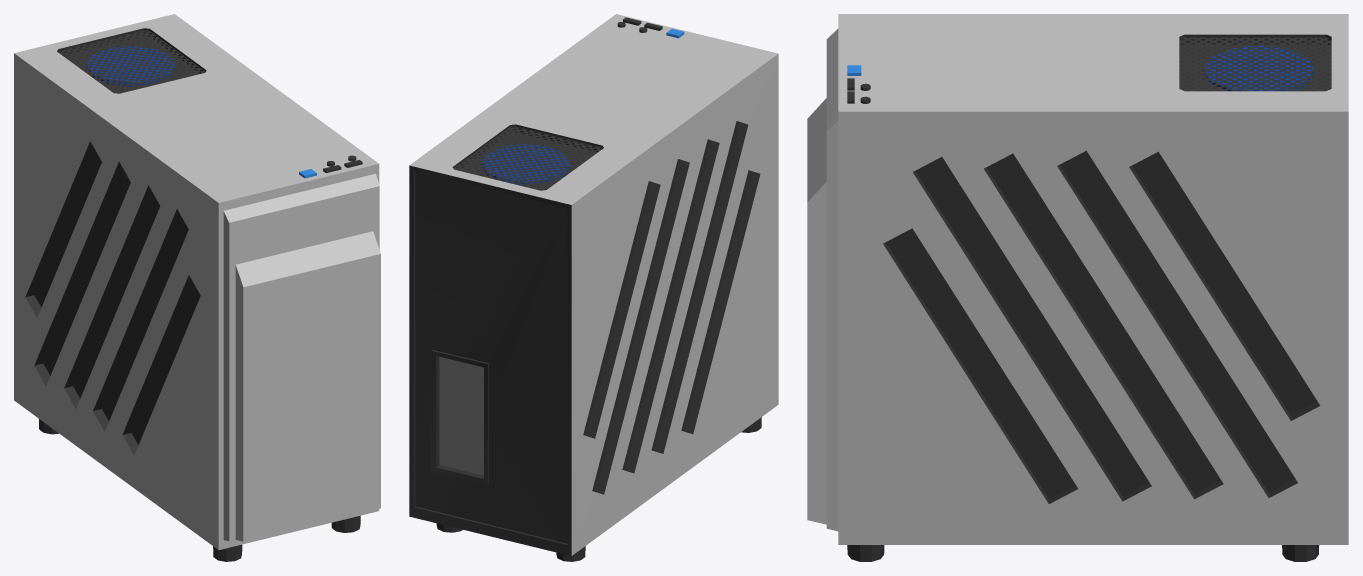
File: PC_Case_8.obj
The picture shows the model from 3 angles, left to right: view 1: azimuth 30°, elevation 25°; view 2: azimuth 150°, elevation 25°; view 3: azimuth 270°, elevation 25°; orthographic projection. The views are drawn at different scales.
Visible parts, largest first — view 1: PC_Case_8; view 2: PC_Case_8; view 3: PC_Case_8.
Part boxes in pixels (bbox=[...]): PC_Case_8: bbox=[14, 14, 380, 561]; PC_Case_8: bbox=[409, 14, 778, 561]; PC_Case_8: bbox=[807, 14, 1348, 561].
Bounding box in the file's own units: 0.2108 × 0.4618 × 0.4934.
